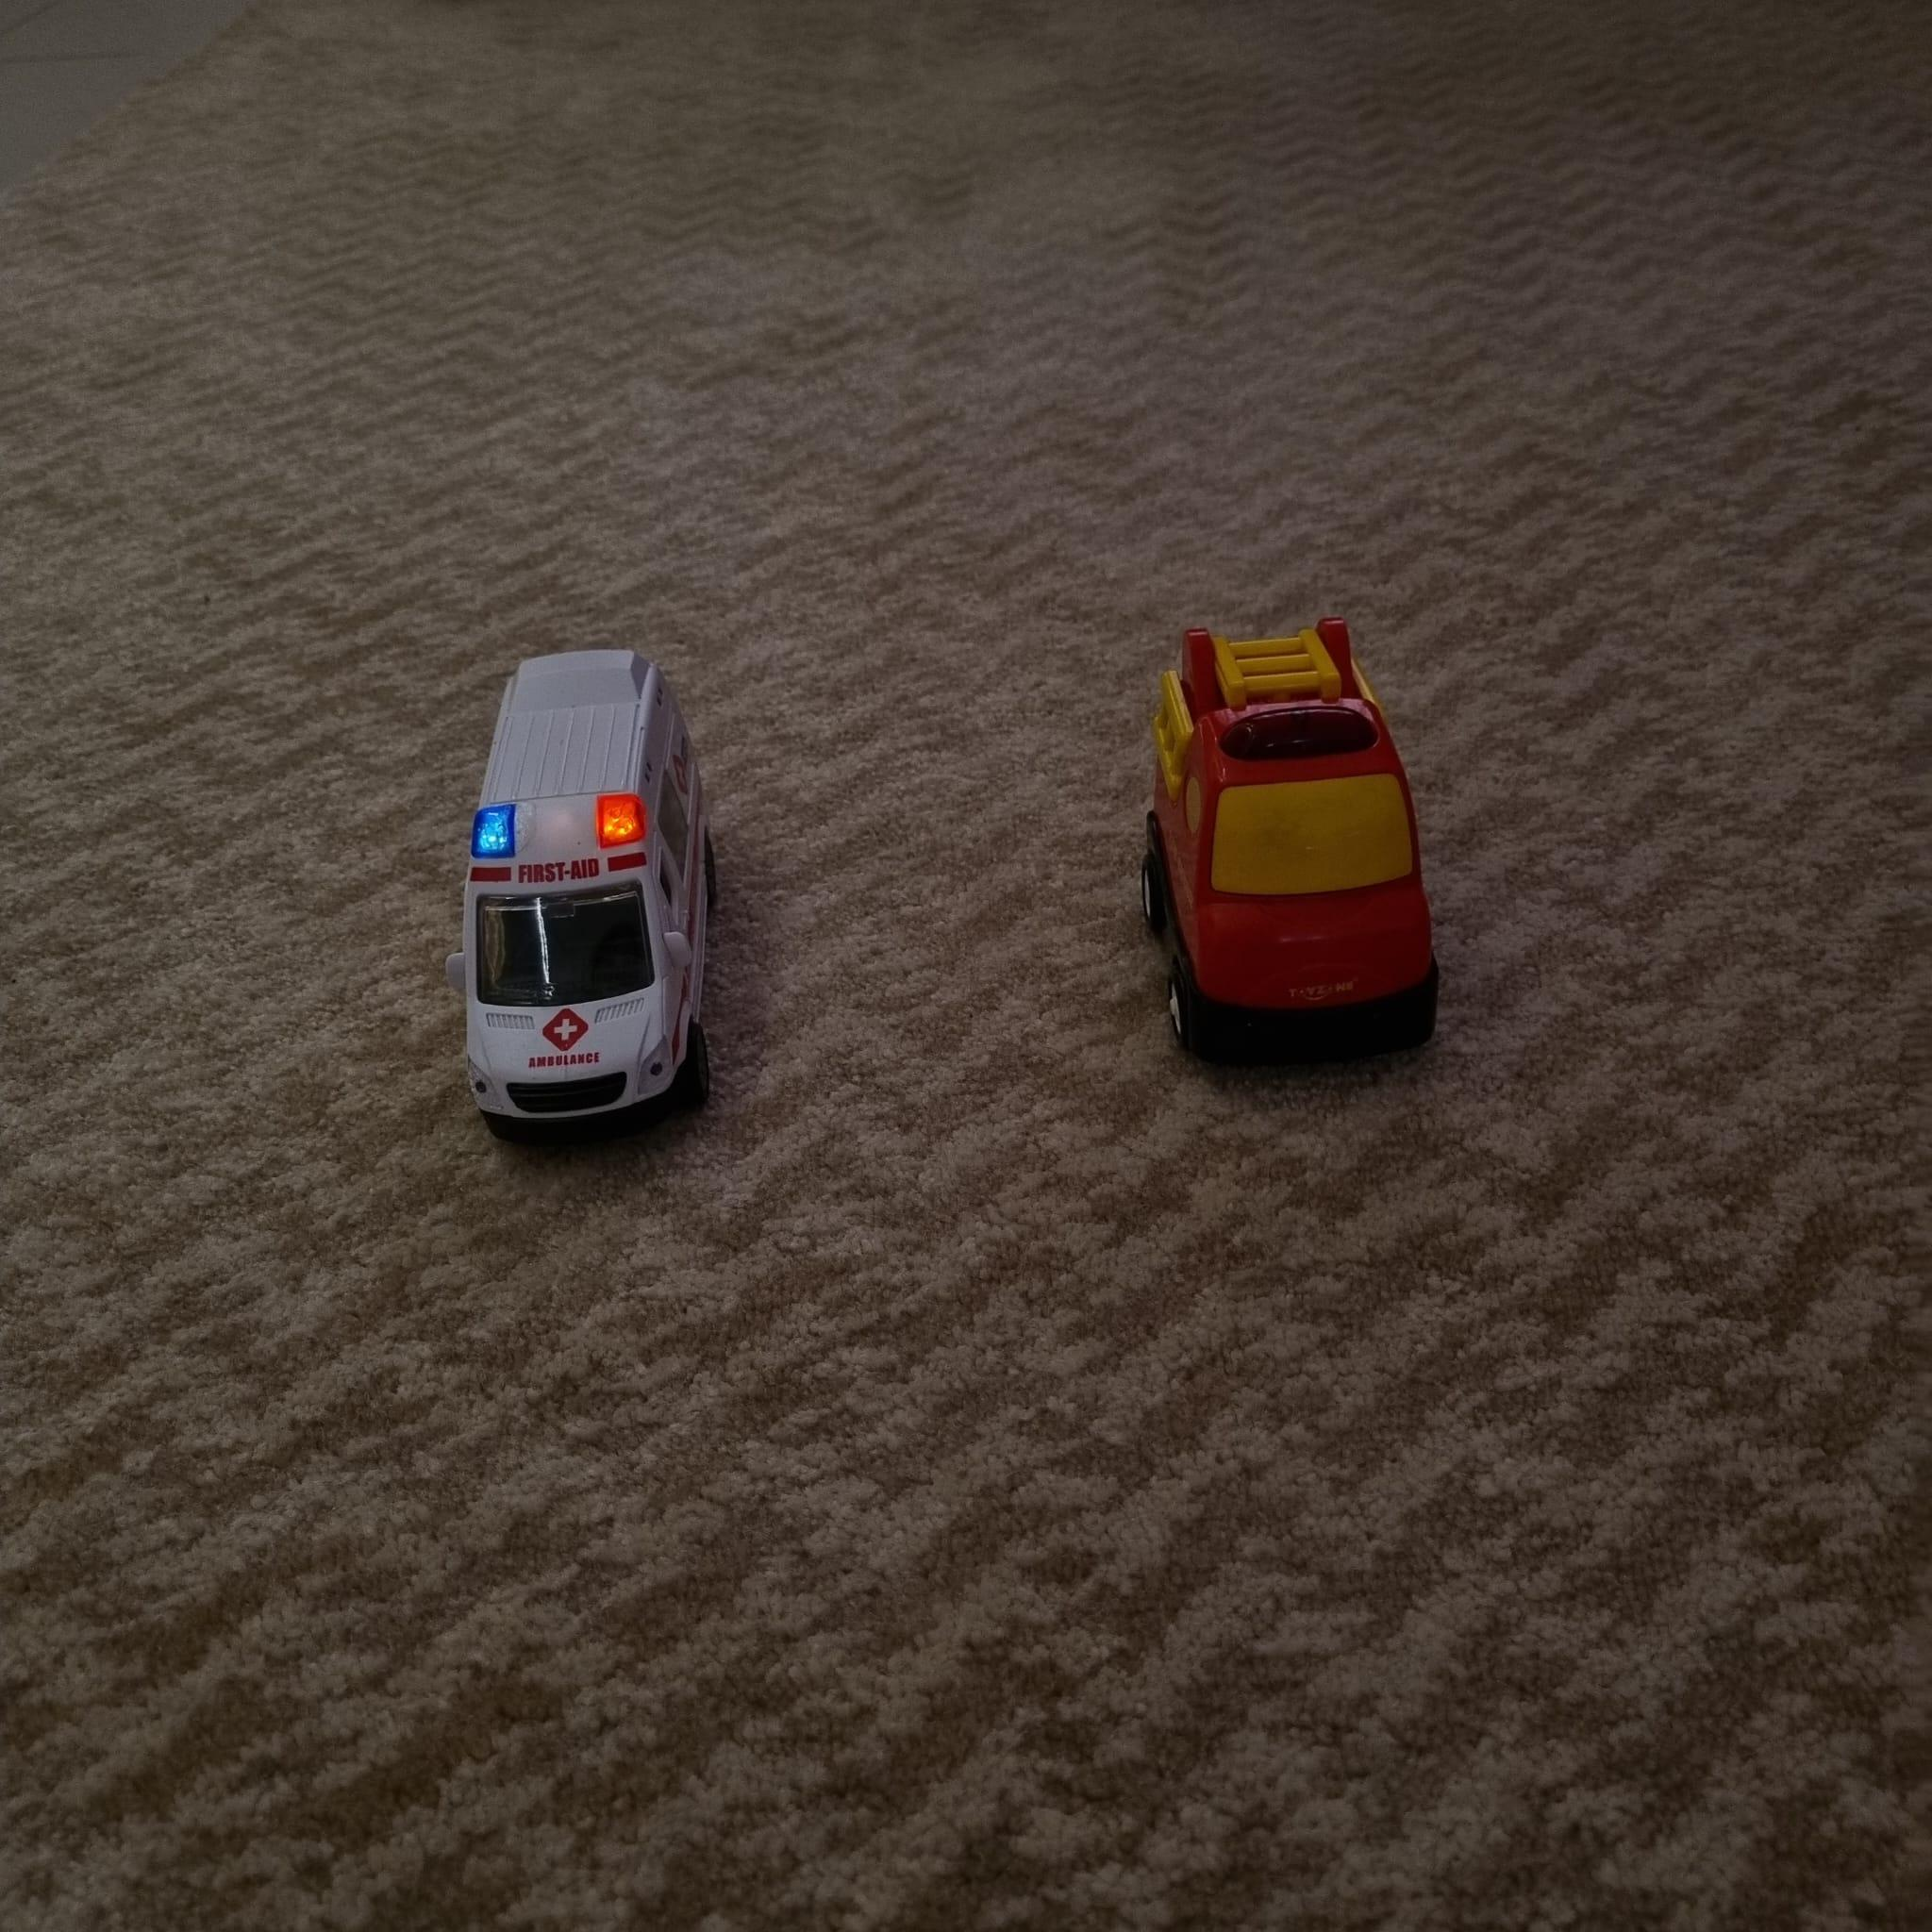ambulance_on: (441, 655, 720, 1145)
firetruck_off: (1138, 625, 1440, 1070)
